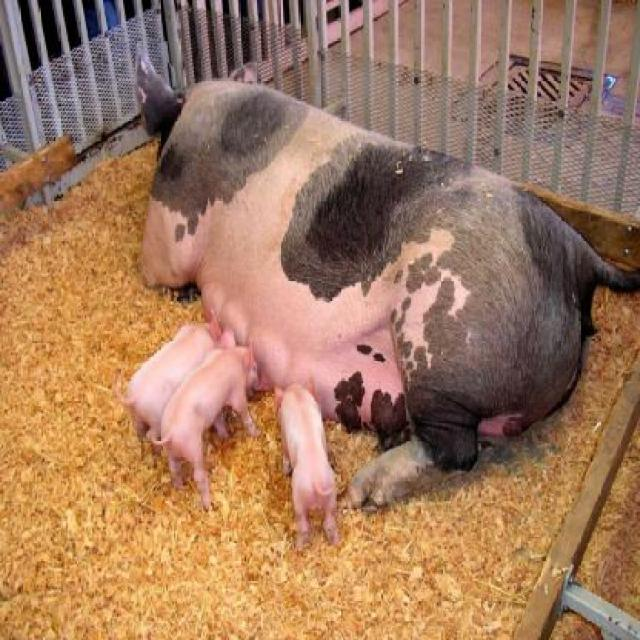pig: (134, 40, 639, 557)
